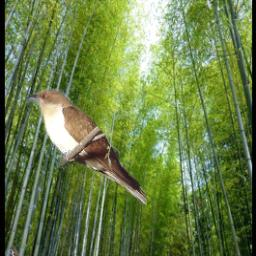Cuckoo: (25, 87, 146, 205), (10, 248, 25, 256)
